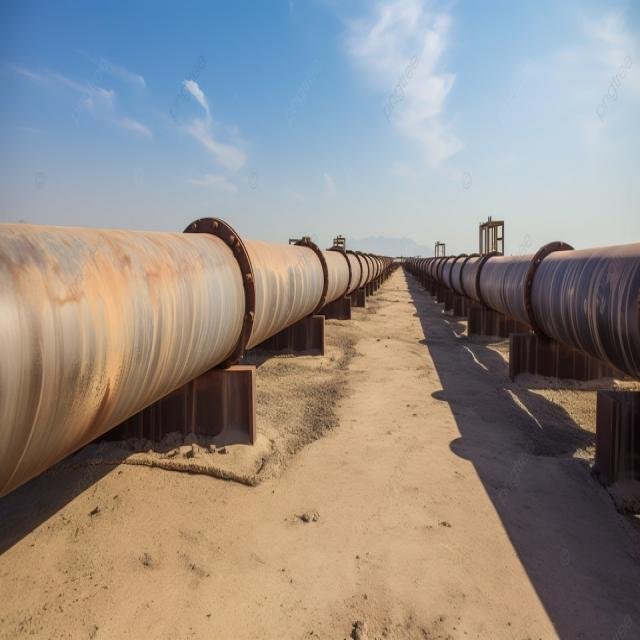gas: (1, 219, 351, 496), (406, 243, 640, 380), (352, 259, 368, 275)
